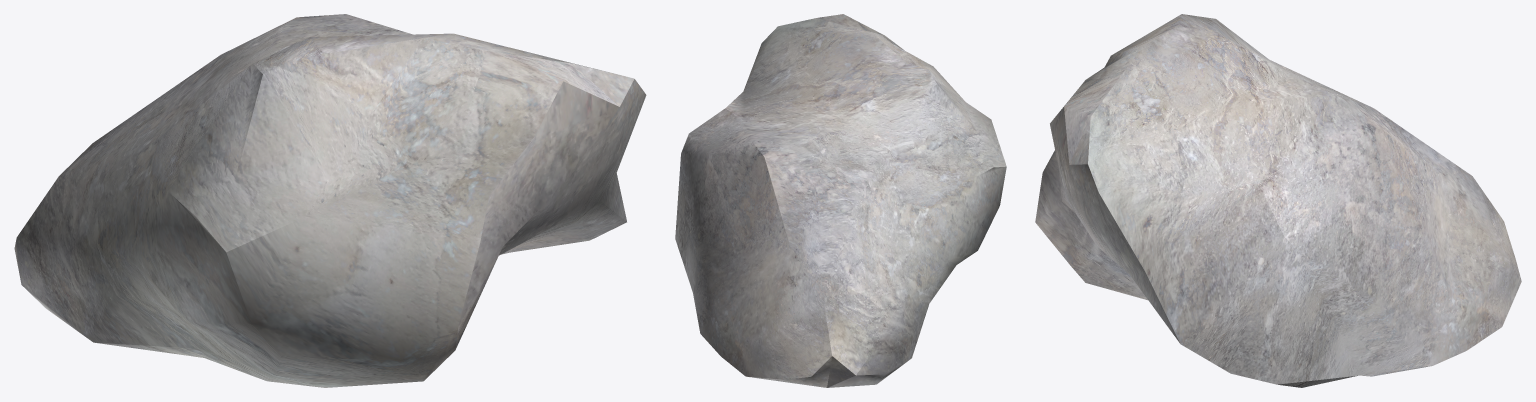
Rendered from rock_00F_lp2_2k.fbx.
3 renders of one model, left to right at view 1: azimuth 30°, elevation 25°; view 2: azimuth 150°, elevation 25°; view 3: azimuth 270°, elevation 25°, orthographic. The views are drawn at different scales.
Visible parts, largest first — view 1: rock_00F_lp2_2k; view 2: rock_00F_lp2_2k; view 3: rock_00F_lp2_2k.
Part boxes in pixels (x1,y1,x2,y2): rock_00F_lp2_2k: [14, 14, 646, 387]; rock_00F_lp2_2k: [675, 14, 1006, 387]; rock_00F_lp2_2k: [1035, 14, 1521, 387].
Bounding box in the file's own units: 173 × 137 × 205.
